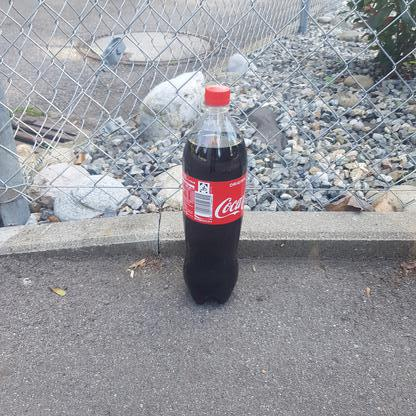coca-cola: (179, 84, 249, 308)
